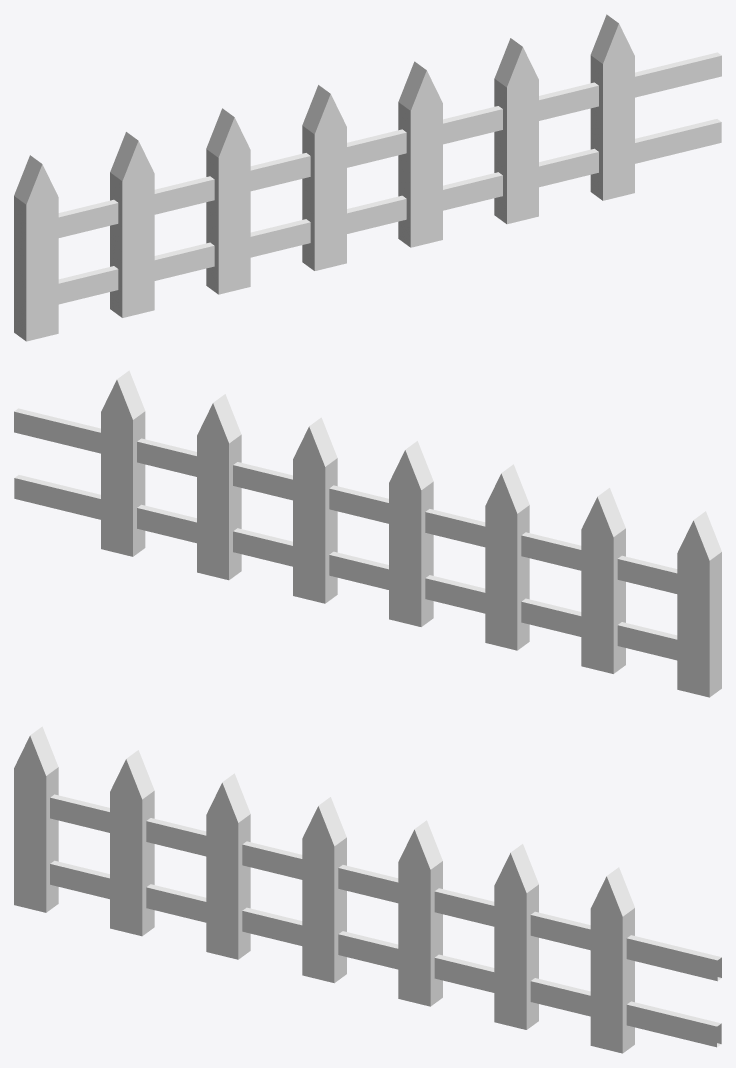
The model's file is langan01.fbx.
3 views of the same model, one above another, from view 1: azimuth 30°, elevation 25°; view 2: azimuth 150°, elevation 25°; view 3: azimuth 330°, elevation 25° (orthographic).
Visible parts, largest first — view 1: langan01; view 2: langan01; view 3: langan01.
Part boxes in pixels (<box>): langan01: <box>14,14,721,341</box>; langan01: <box>14,370,721,697</box>; langan01: <box>14,726,721,1053</box>.
Bounding box in the file's own units: 990 × 235 × 30.33.
